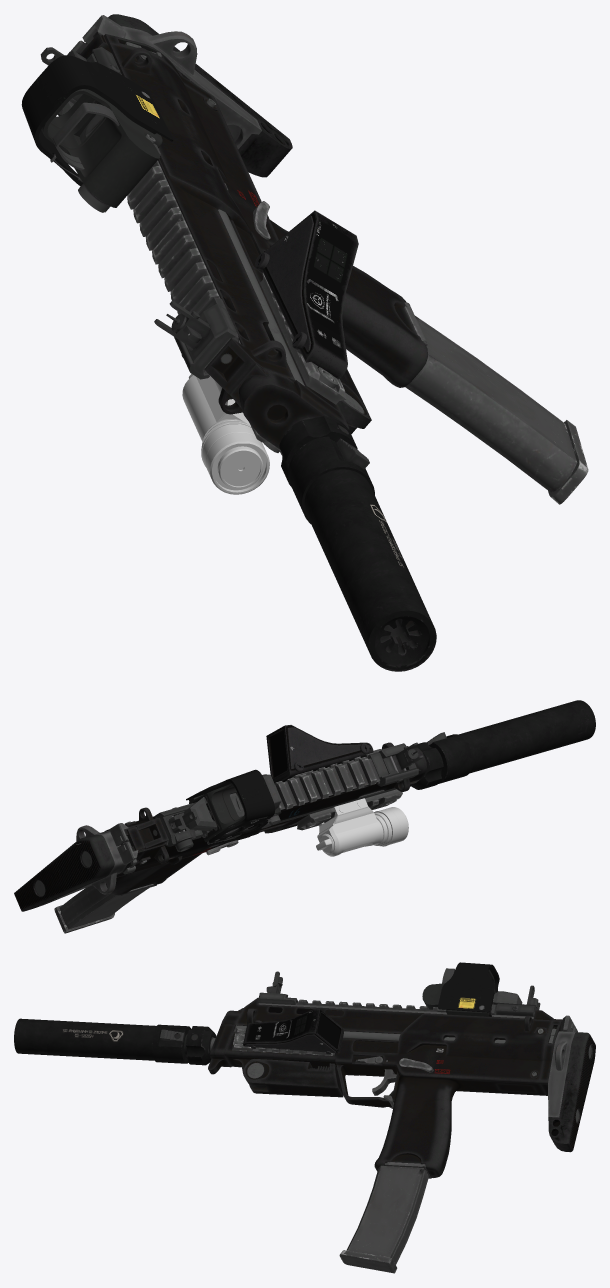
File: Fsp9Pickup.fbx
3 views of the same model, one above another, from view 1: azimuth 30°, elevation 25°; view 2: azimuth 150°, elevation 25°; view 3: azimuth 270°, elevation 25° (orthographic). The views are drawn at different scales.
Parts seen in each view (by area): view 1: mp7body_LOD0, silencermp7_LOD0, mp7holo_LOD0, mp7mag_LOD0, bottom_3_counter, mp7stock_LOD0, flashlightvec_LOD0, ironmp7_LOD0, laservec_LOD0, mp7reddot_LOD0, mp7smolboi_LOD0; view 2: mp7body_LOD0, silencermp7_LOD0, mp7stock_LOD0, mp7holo_LOD0, bottom_3_counter, flashlightvec_LOD0, ironmp7_LOD0, mp7mag_LOD0, mp7reddot_LOD0, mp7handle_LOD0, laservec_LOD0; view 3: mp7body_LOD0, silencermp7_LOD0, mp7mag_LOD0, mp7stock_LOD0, bottom_3_counter, mp7smolboi_LOD0, mp7holo_LOD0, ironmp7_LOD0, mp7reddot_LOD0.
Part boxes in pixels (x1,y1,x2,y2): mp7body_LOD0: [78, 31, 427, 455]; silencermp7_LOD0: [279, 416, 436, 671]; mp7holo_LOD0: [21, 55, 173, 212]; mp7mag_LOD0: [404, 302, 588, 504]; bottom_3_counter: [255, 210, 358, 379]; mp7stock_LOD0: [86, 14, 304, 385]; flashlightvec_LOD0: [182, 374, 269, 494]; ironmp7_LOD0: [40, 47, 238, 379]; laservec_LOD0: [209, 380, 263, 488]; mp7reddot_LOD0: [52, 94, 160, 170]; mp7smolboi_LOD0: [338, 369, 371, 428]; mp7body_LOD0: [76, 742, 426, 895]; silencermp7_LOD0: [411, 700, 595, 789]; mp7stock_LOD0: [14, 788, 396, 911]; mp7holo_LOD0: [186, 769, 281, 844]; bottom_3_counter: [266, 725, 373, 784]; flashlightvec_LOD0: [316, 798, 408, 856]; ironmp7_LOD0: [155, 742, 423, 851]; mp7mag_LOD0: [54, 884, 156, 933]; mp7reddot_LOD0: [183, 774, 281, 836]; mp7handle_LOD0: [109, 823, 138, 864]; laservec_LOD0: [319, 798, 386, 854]; mp7body_LOD0: [208, 997, 592, 1177]; silencermp7_LOD0: [14, 1018, 216, 1065]; mp7mag_LOD0: [339, 1162, 431, 1273]; mp7stock_LOD0: [233, 1025, 595, 1152]; bottom_3_counter: [243, 1009, 343, 1054]; mp7smolboi_LOD0: [243, 1059, 343, 1097]; mp7holo_LOD0: [422, 962, 499, 1016]; ironmp7_LOD0: [258, 971, 540, 1016]; mp7reddot_LOD0: [437, 968, 522, 1014].
Size of what is drawn, in the model's own units: 0.724 by 0.5194 by 1.28.
